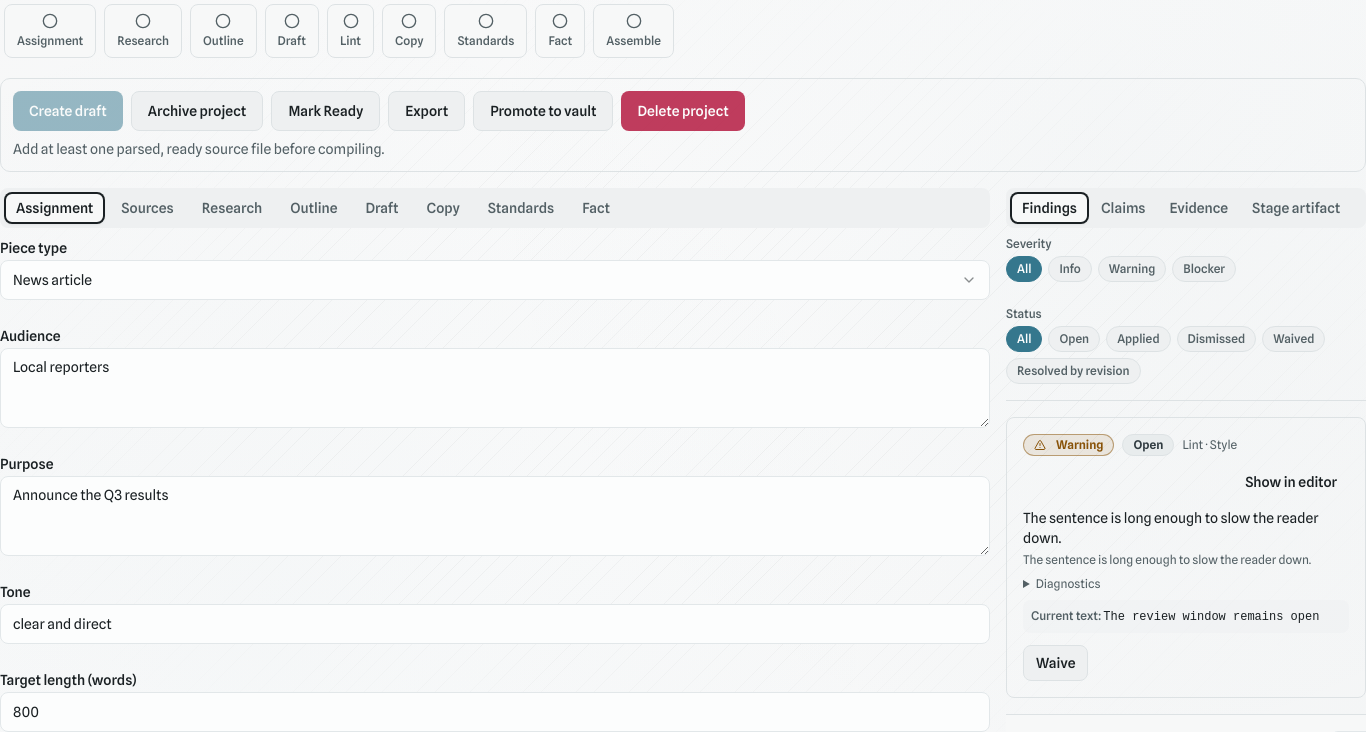
DraftWorkspace (issue #533) › Back to findings returns focus to the originating finding row and hides the bar
The width and height of the screenshot is (1366, 732).
// Fixture sanity: the real inspector's findings panel rendered the row.
Click the button with aria-label "show finding in editor": coordinates (1291, 482) [1233,464,1349,500]
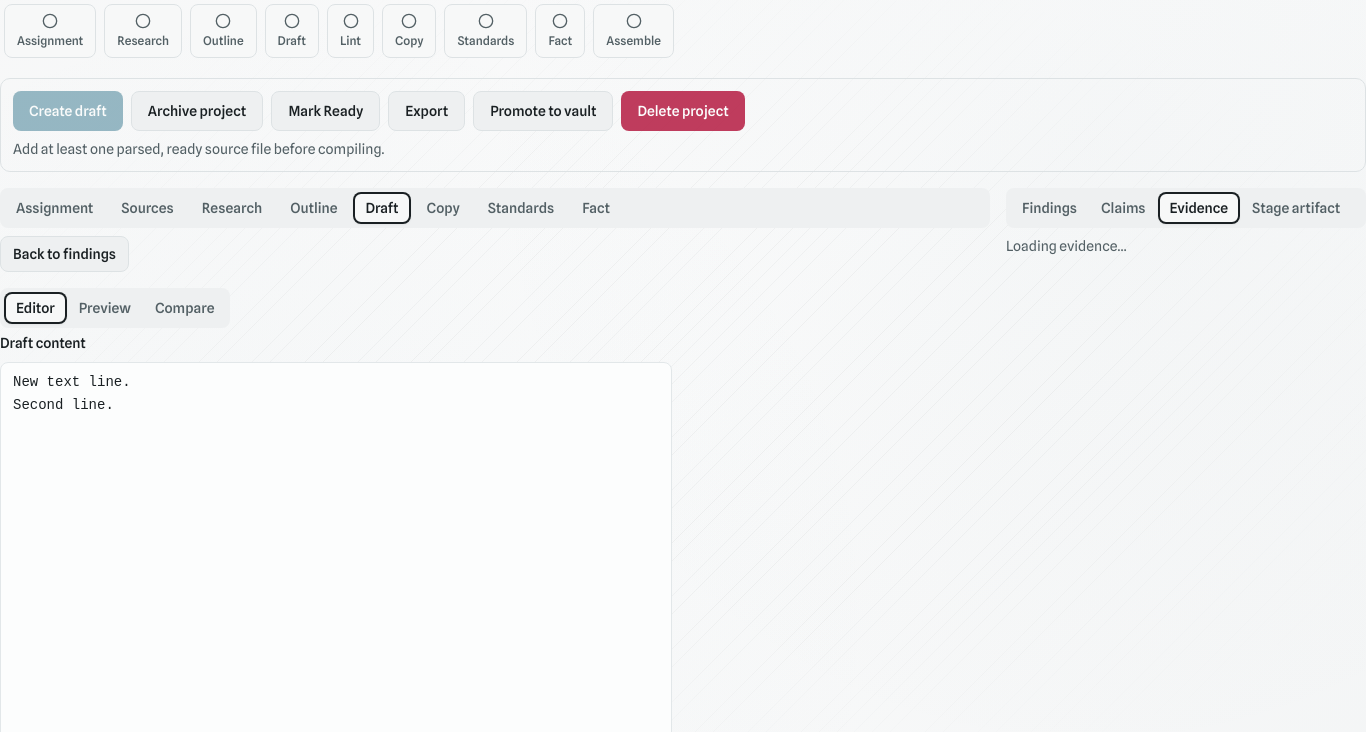
Now the button "Back to findings" is shown
Click the button "Back to findings": coordinates (64, 254) [0,236,129,272]
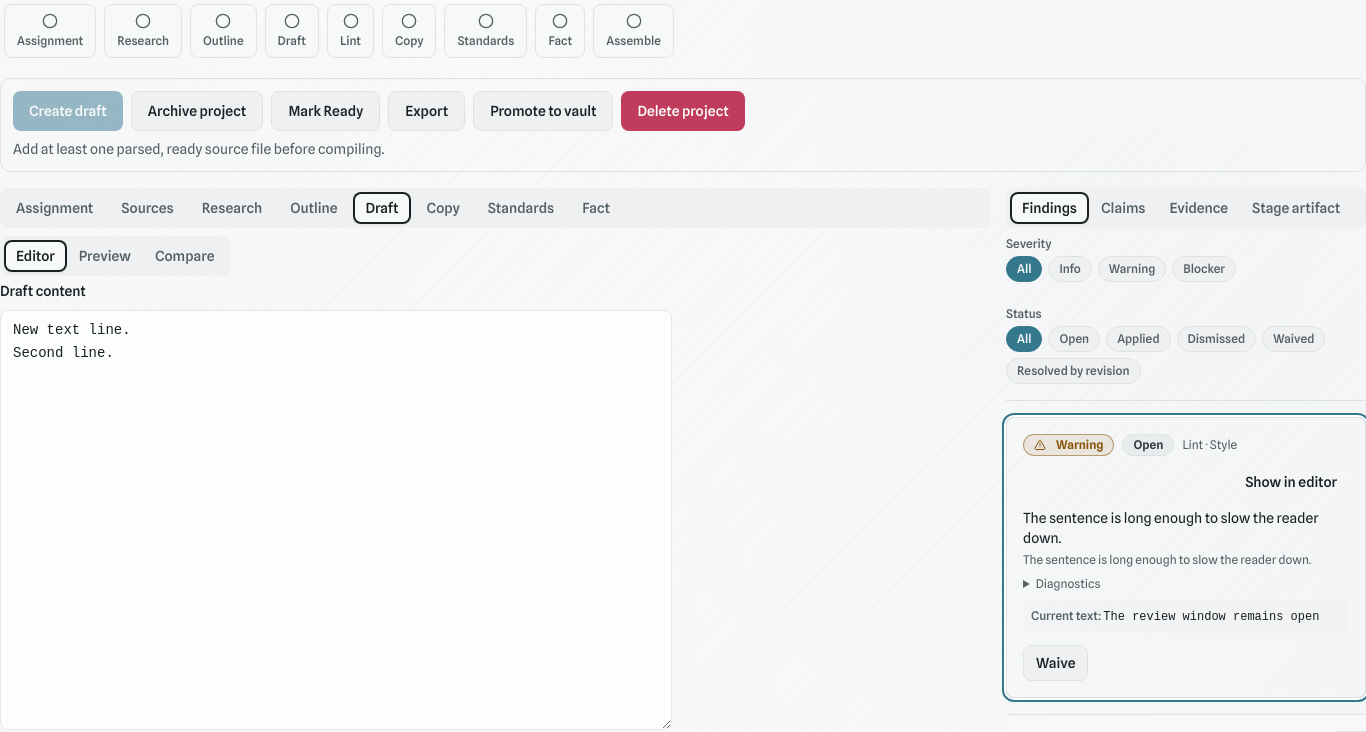
Now the button "Back to findings" is gone
